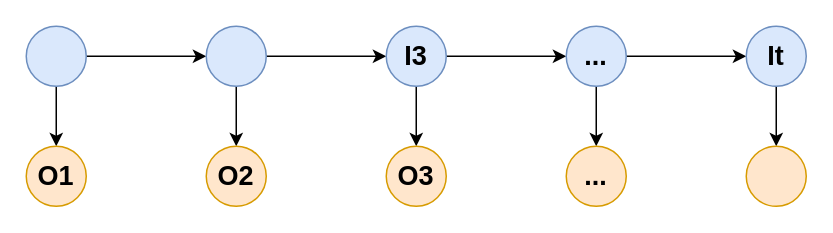
Some shapes in this 833 by 233 pixel diagram are drawn without their labels. The centre of each missing label's shape, as x and y in pixels:
"I1" belongs at (55,55).
"I2" belongs at (235,55).
"Ot" belongs at (775,175).
